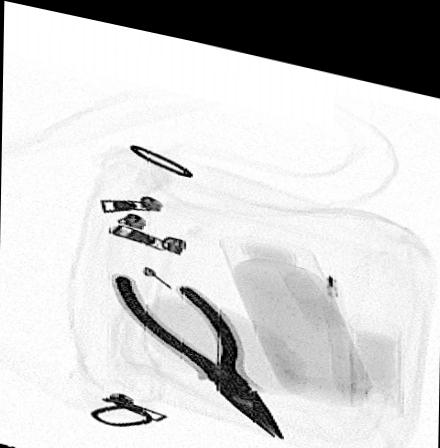Pliers: (108, 266, 289, 426)
